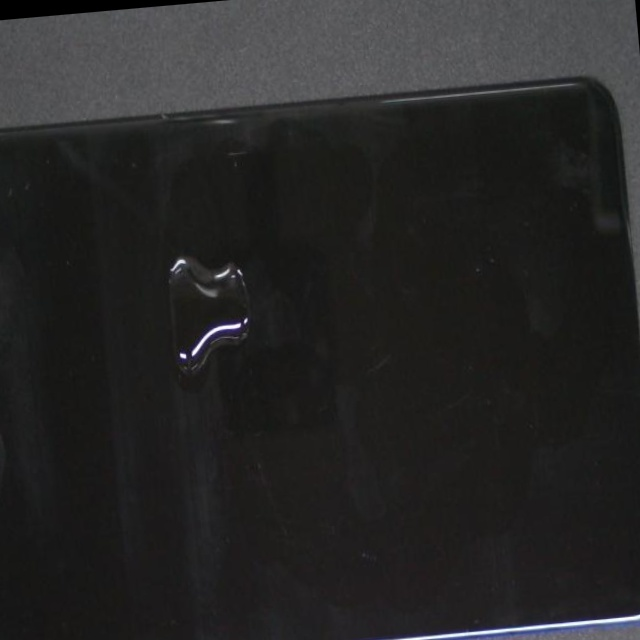oil: (76, 199, 430, 473)
